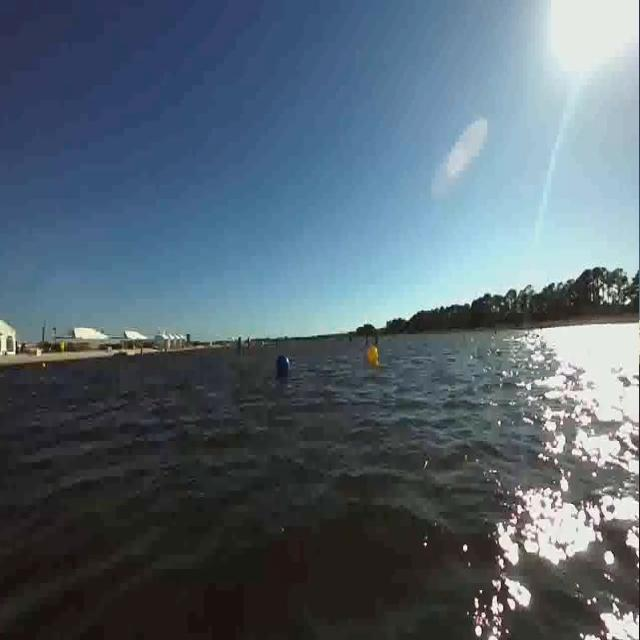blue-buoy: (277, 354, 290, 374)
yellow-buoy: (366, 345, 378, 365)
